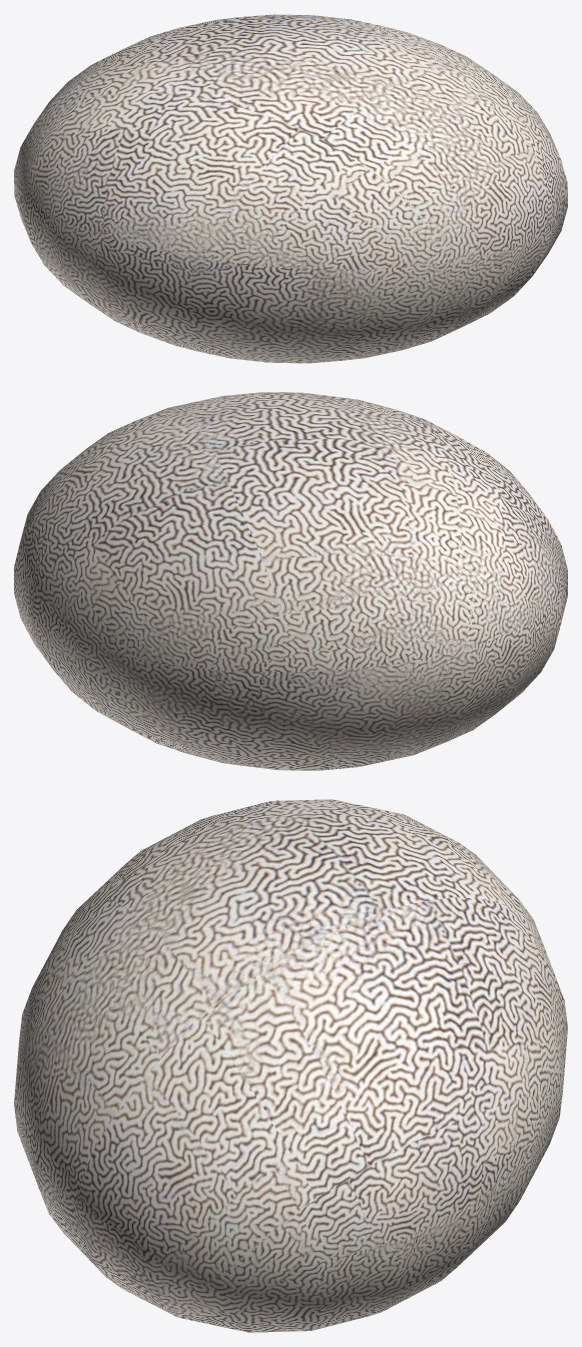
The model's file is coral-brain-old.glb.
The picture shows the model from 3 angles, top to bottom: view 1: azimuth 30°, elevation 25°; view 2: azimuth 150°, elevation 25°; view 3: azimuth 270°, elevation 25°; orthographic projection. The views are drawn at different scales.
Visible parts, largest first — view 1: pasted__pSphere44; view 2: pasted__pSphere44; view 3: pasted__pSphere44.
Boxes of the visible parts, x1,y1,x2,y2 form: pasted__pSphere44: (14,14,567,363); pasted__pSphere44: (14,392,567,770); pasted__pSphere44: (14,799,567,1332).
Size of the model in its own units: 4.17 by 2.51 by 3.21.
Materials: 1 (1 with a texture image).
